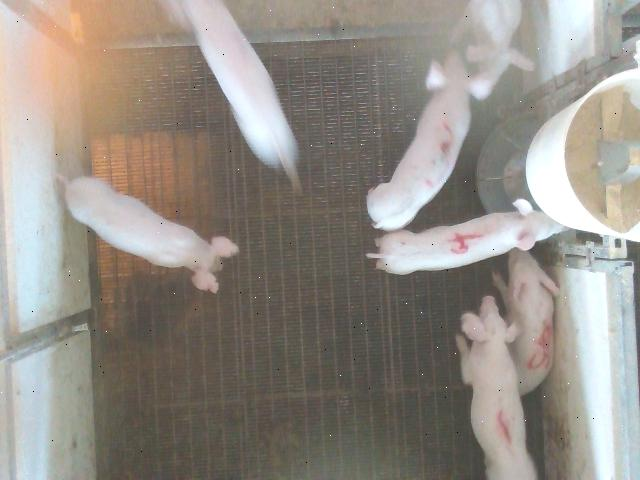pig-1: (458, 297, 536, 480)
pig-2: (171, 1, 299, 190)
pig-3: (368, 51, 490, 231)
pig-4: (368, 199, 566, 274)
pig-5: (504, 249, 559, 395)
